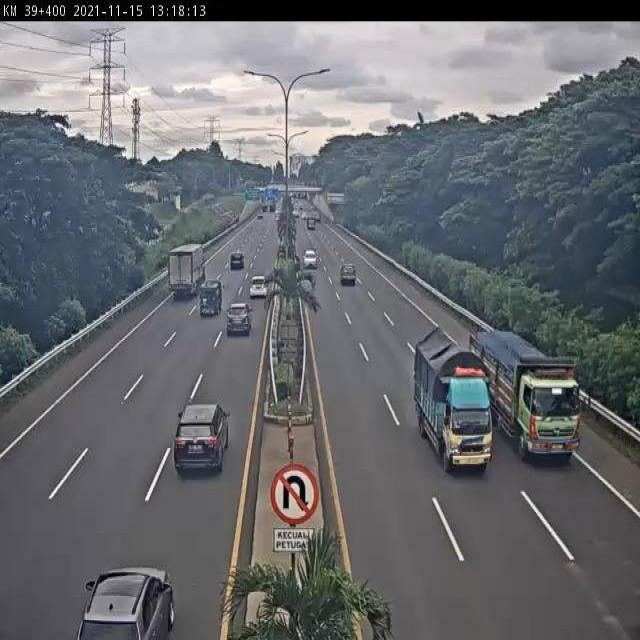car: (173, 402, 230, 478), (226, 301, 252, 336), (248, 275, 270, 300)
truck-l-: (495, 337, 588, 460)
truck-m-: (413, 324, 492, 472), (198, 279, 224, 317)
